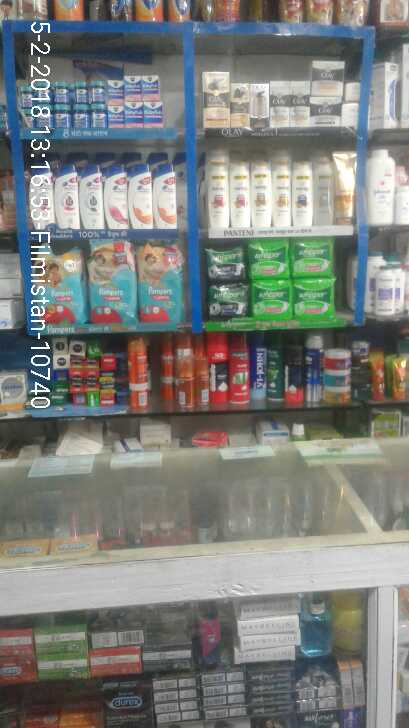vicks: (22, 76, 163, 127)
